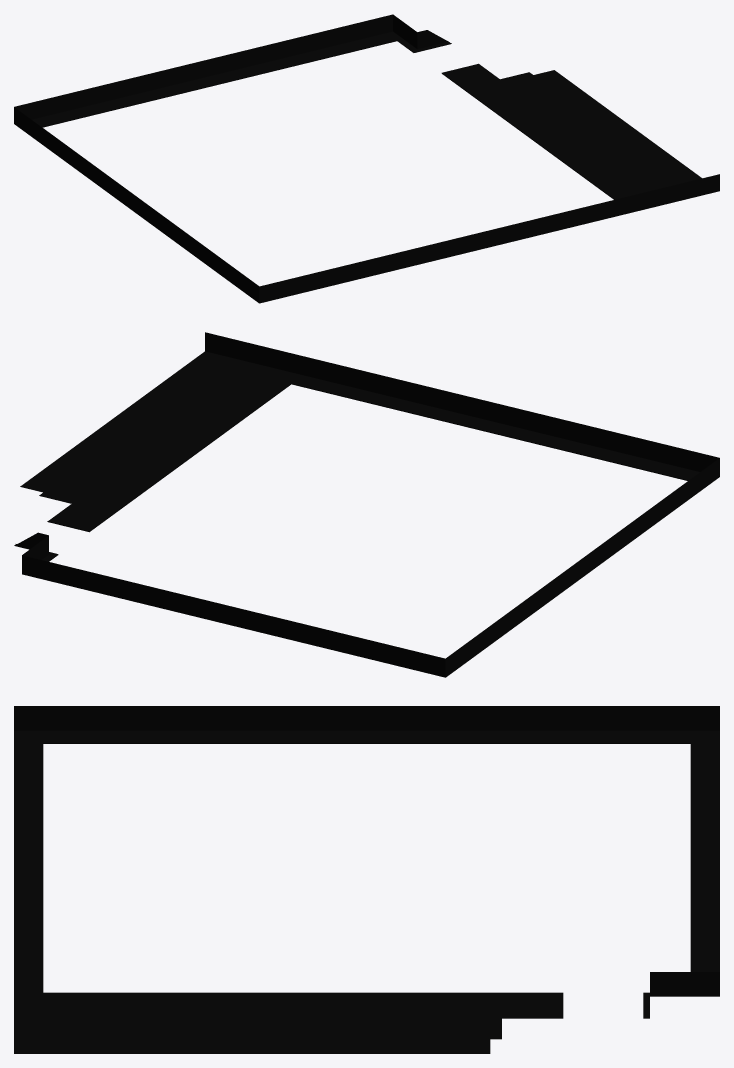
Rendered from ParkingLotSideWalkColider.fbx.
The picture shows the model from 3 angles, top to bottom: view 1: azimuth 30°, elevation 25°; view 2: azimuth 150°, elevation 25°; view 3: azimuth 270°, elevation 25°; orthographic projection. The views are drawn at different scales.
Parts seen in each view (by area): view 1: ParkingLotSideWalkColiider; view 2: ParkingLotSideWalkColiider; view 3: ParkingLotSideWalkColiider.
Boxes of the visible parts, <box> form: ParkingLotSideWalkColiider: <box>14,14,719,303</box>; ParkingLotSideWalkColiider: <box>14,332,719,677</box>; ParkingLotSideWalkColiider: <box>14,706,719,1053</box>.
Size of the model in its own units: 8376 by 310 by 7728.
Materials: 1 (1 with a texture image).
